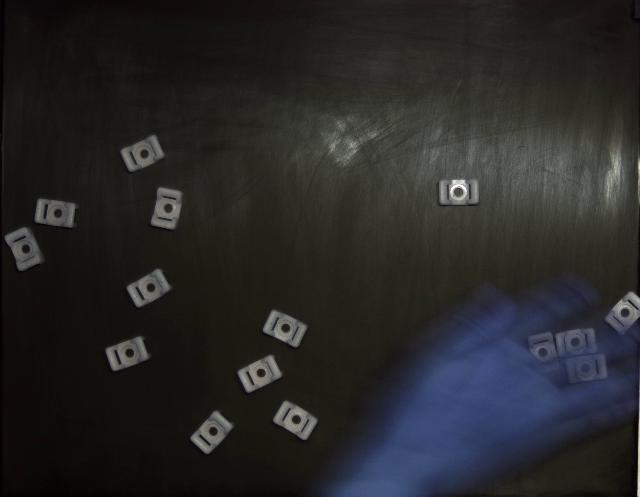first_side: (190, 411, 234, 455), (126, 269, 172, 308), (274, 401, 318, 441), (262, 310, 308, 348), (5, 228, 44, 271), (120, 135, 165, 172), (238, 355, 282, 392), (105, 336, 150, 372), (605, 292, 640, 335), (35, 199, 79, 229), (151, 188, 182, 230), (439, 180, 479, 206)
